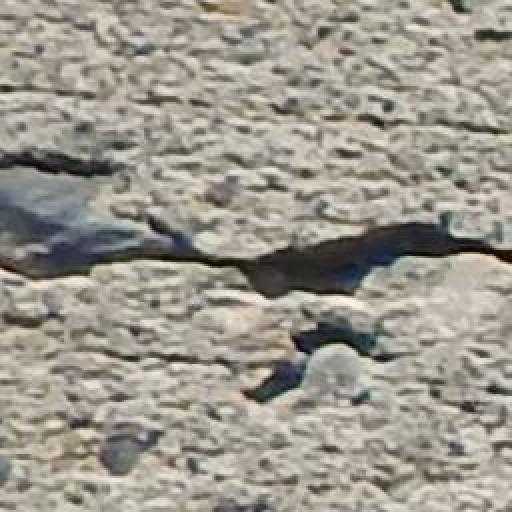spalling: (10, 126, 507, 322)
